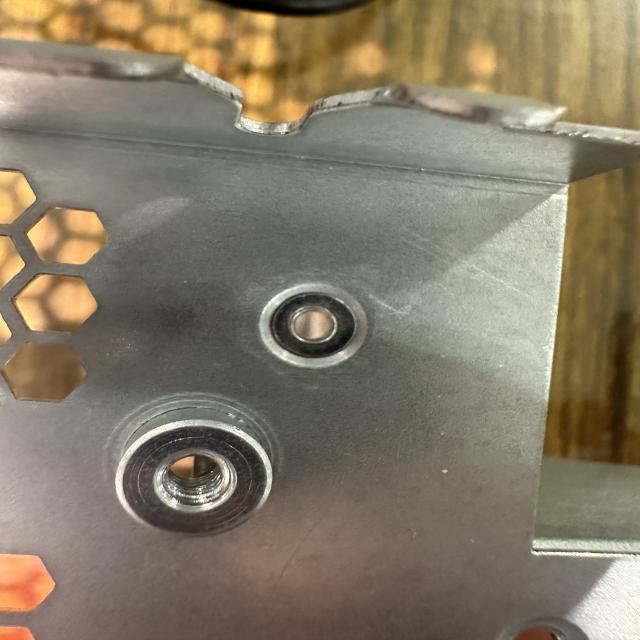Missing screw: (240, 274, 380, 376)
